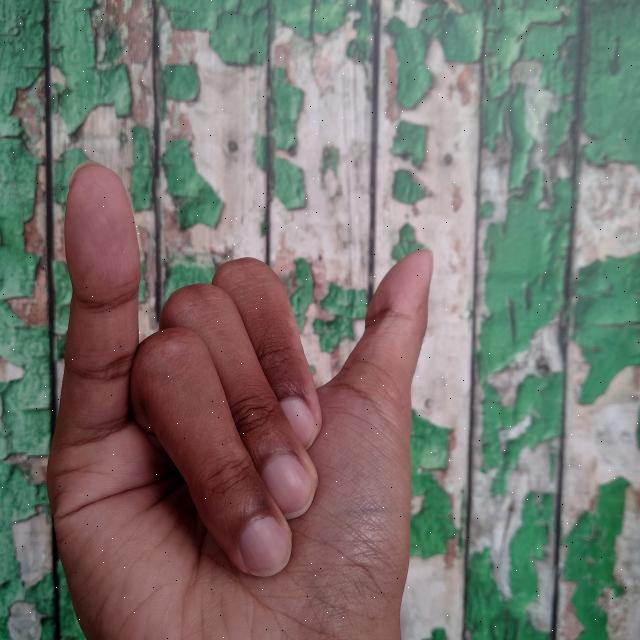Y: (45, 142, 439, 640)
